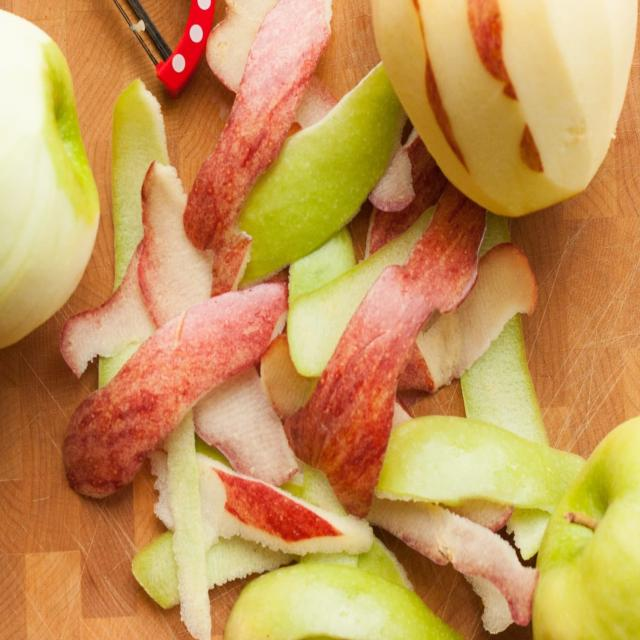Organik: (287, 184, 492, 514), (61, 282, 290, 502), (237, 60, 410, 283)
